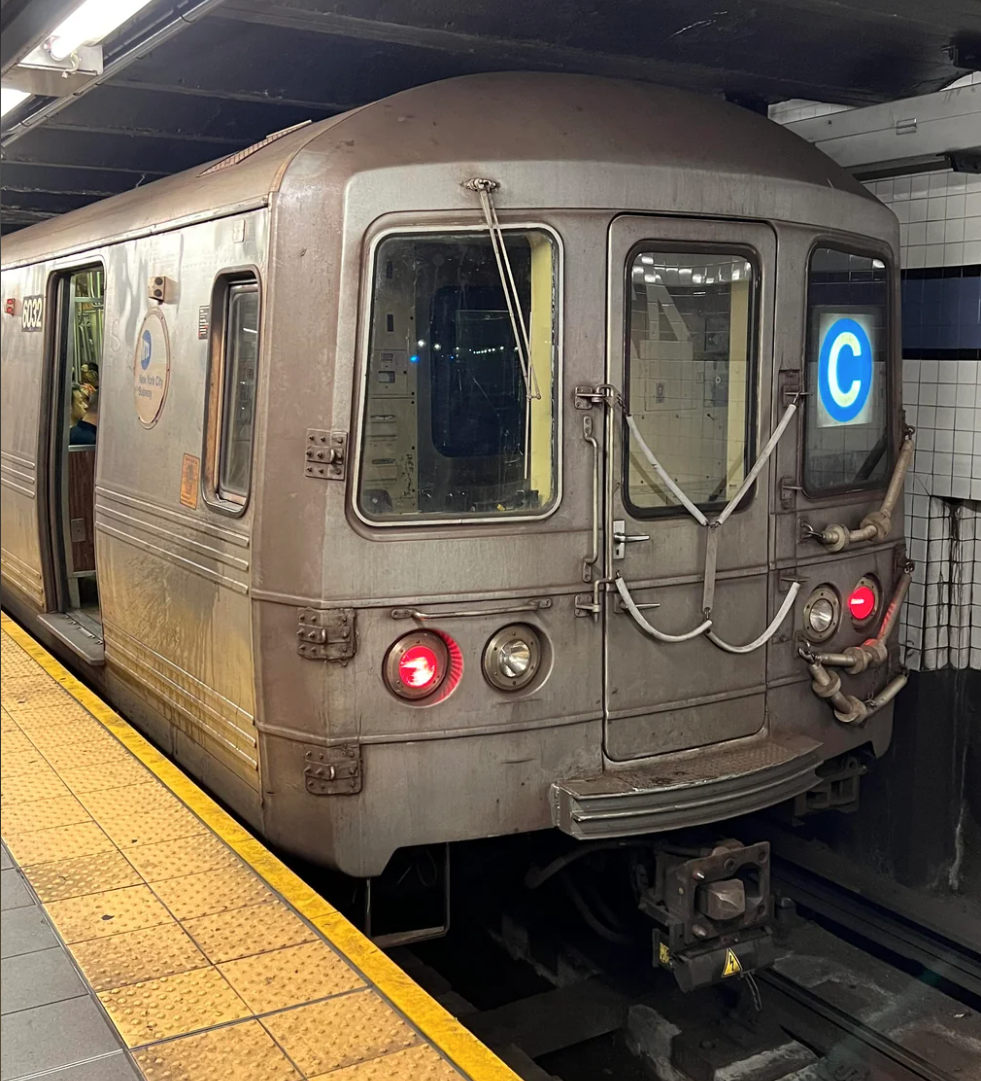train: (126, 68, 901, 828)
